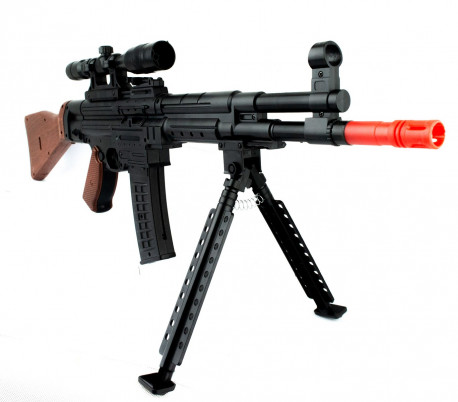Arma Falsa: (20, 40, 447, 397)
